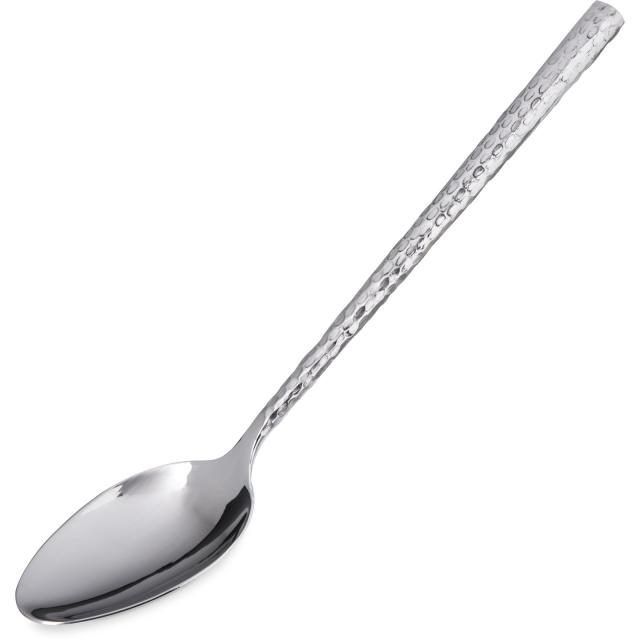spoon: (0, 0, 632, 631)
